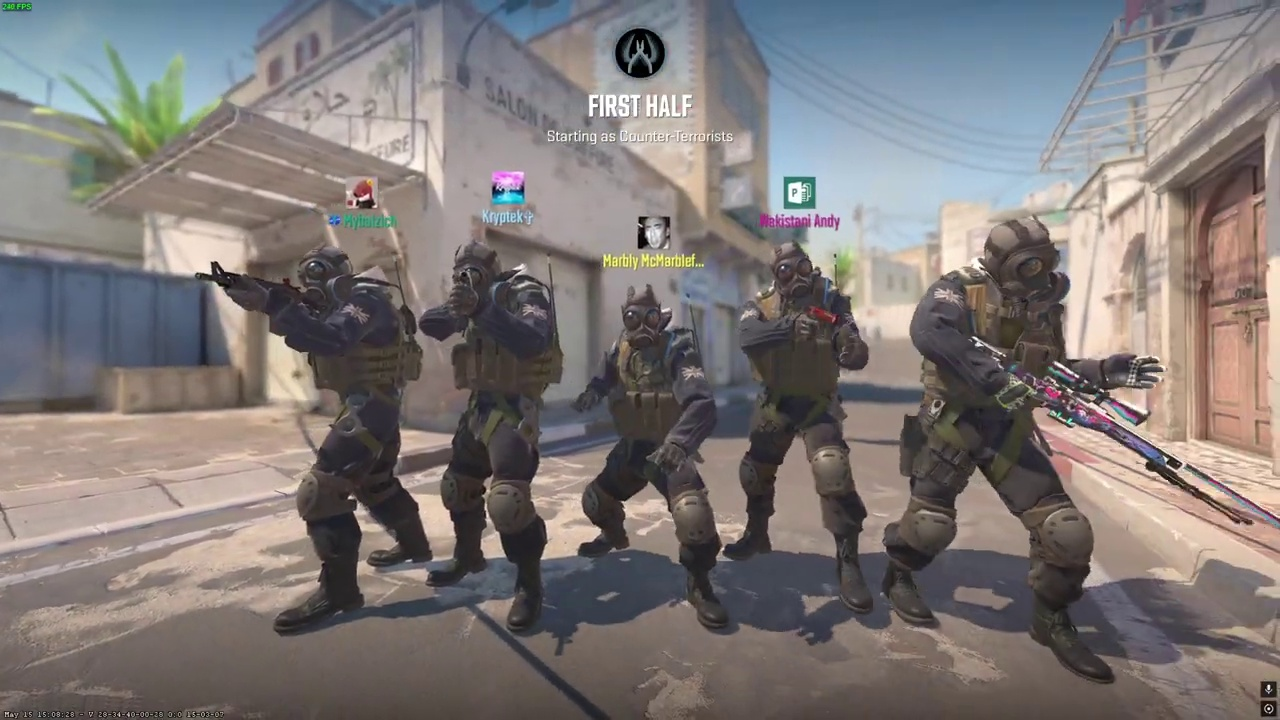CT: (882, 215, 1121, 656), (249, 242, 431, 632), (418, 238, 565, 630), (722, 240, 874, 614), (571, 284, 729, 630)
